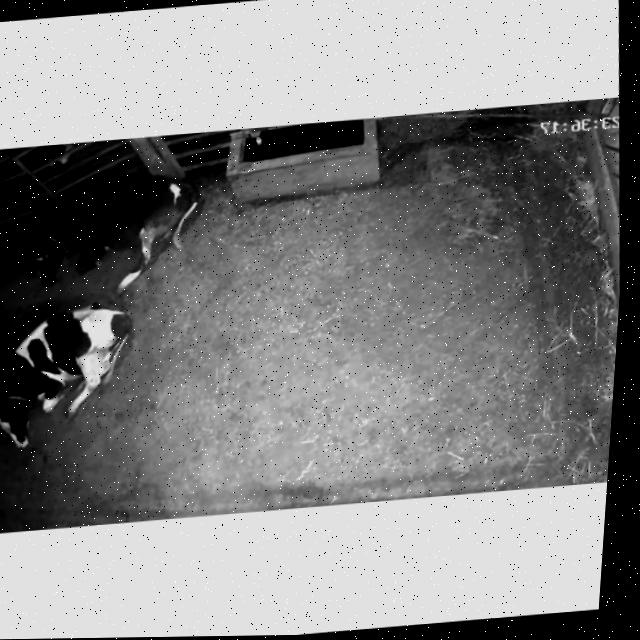lay: (0, 164, 210, 301), (0, 294, 149, 460)
